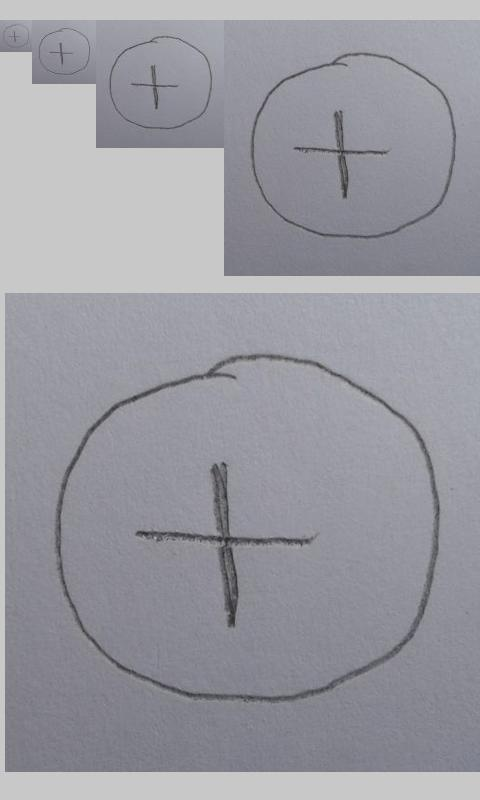button: (52, 353, 442, 705), (249, 51, 458, 241), (108, 35, 213, 130), (38, 27, 91, 76), (2, 24, 30, 49)
